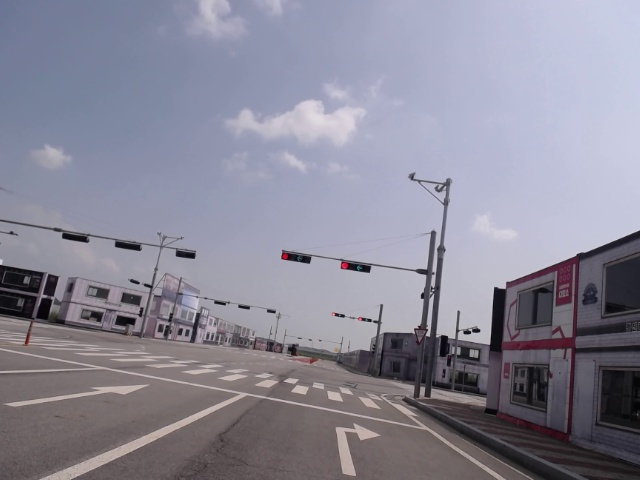left_green_4: (283, 251, 311, 265), (341, 261, 370, 273)
